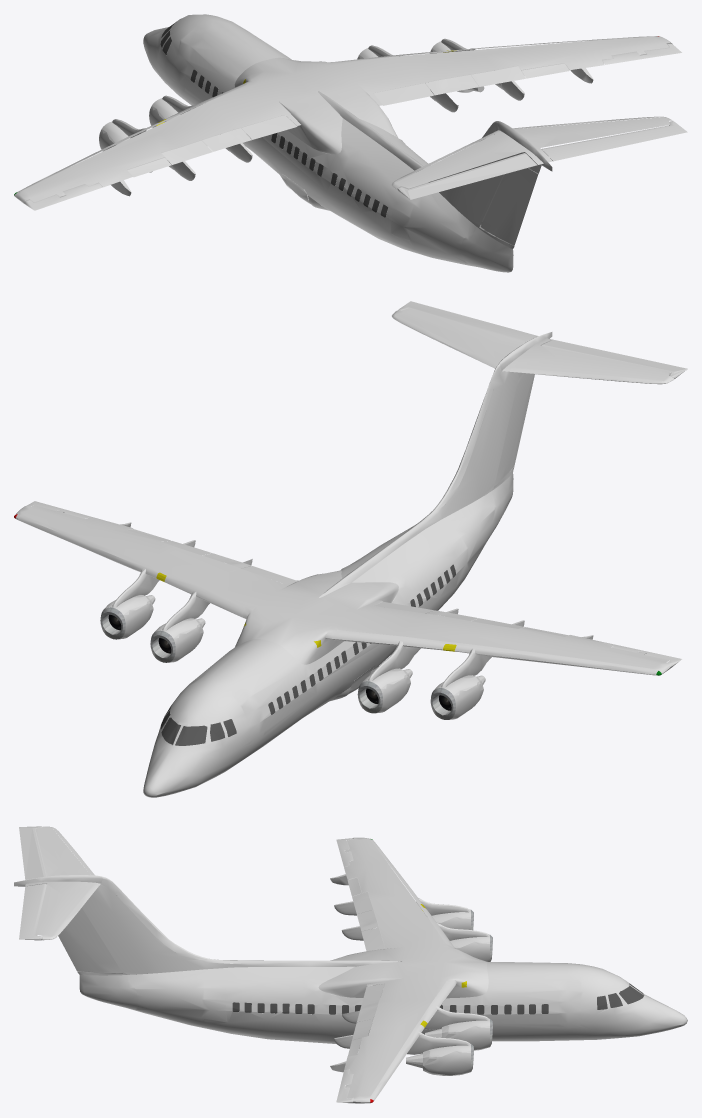
File: bae146.glb
The picture shows the model from 3 angles, top to bottom: view 1: azimuth 30°, elevation 25°; view 2: azimuth 150°, elevation 25°; view 3: azimuth 270°, elevation 25°; orthographic projection. The views are drawn at different scales.
Visible parts, largest first — view 1: rootNode; view 2: rootNode; view 3: rootNode.
Boxes of the visible parts, x1,y1,x2,y2 form: rootNode: (14,14,687,272); rootNode: (14,301,687,797); rootNode: (14,826,687,1103).
Bounding box in the file's own units: 26.17 × 7.72 × 28.31.
7 materials, 1 textured.
